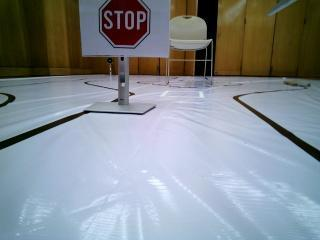stop: (81, 3, 168, 57)
